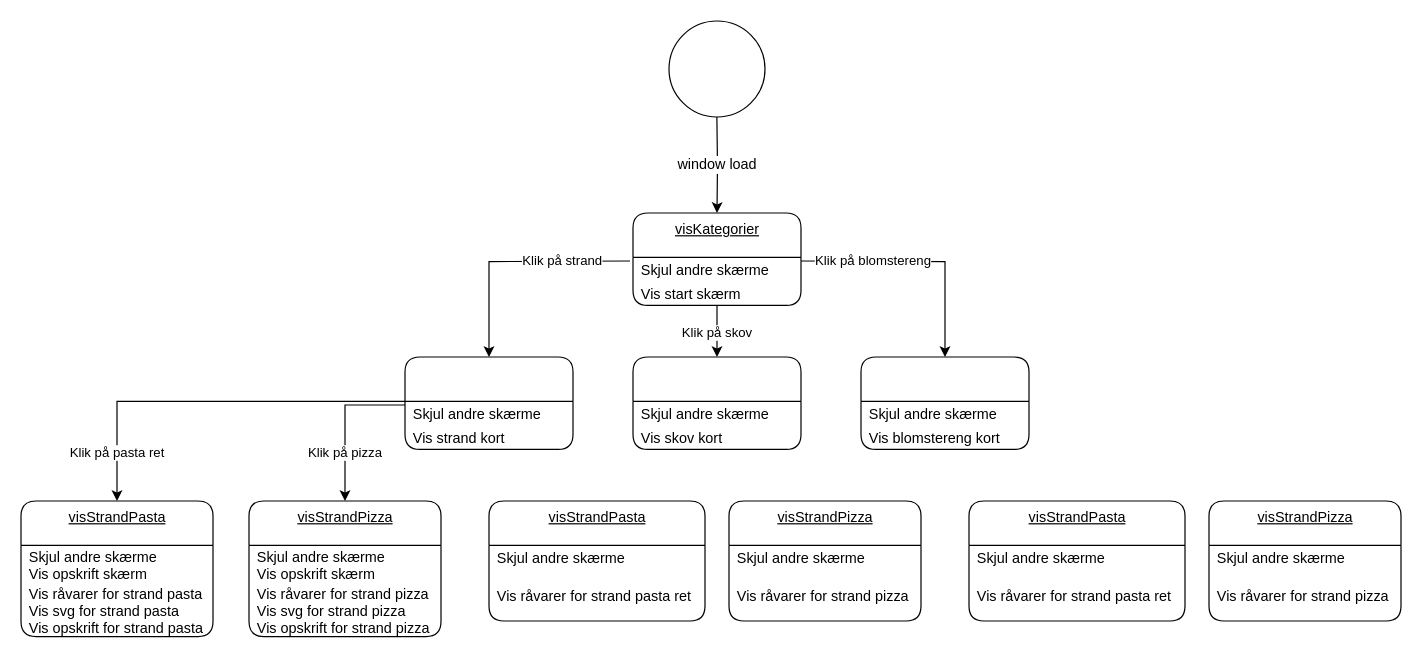
This 1422x658 diagram has some shape labels left out. The box of each missing label's shape, as (x1, y1, x2, y2) in pixels:
klikBlomstereng: (860, 356, 1029, 449)
klikSkov: (632, 356, 801, 449)
klikStrand: (404, 356, 573, 449)
